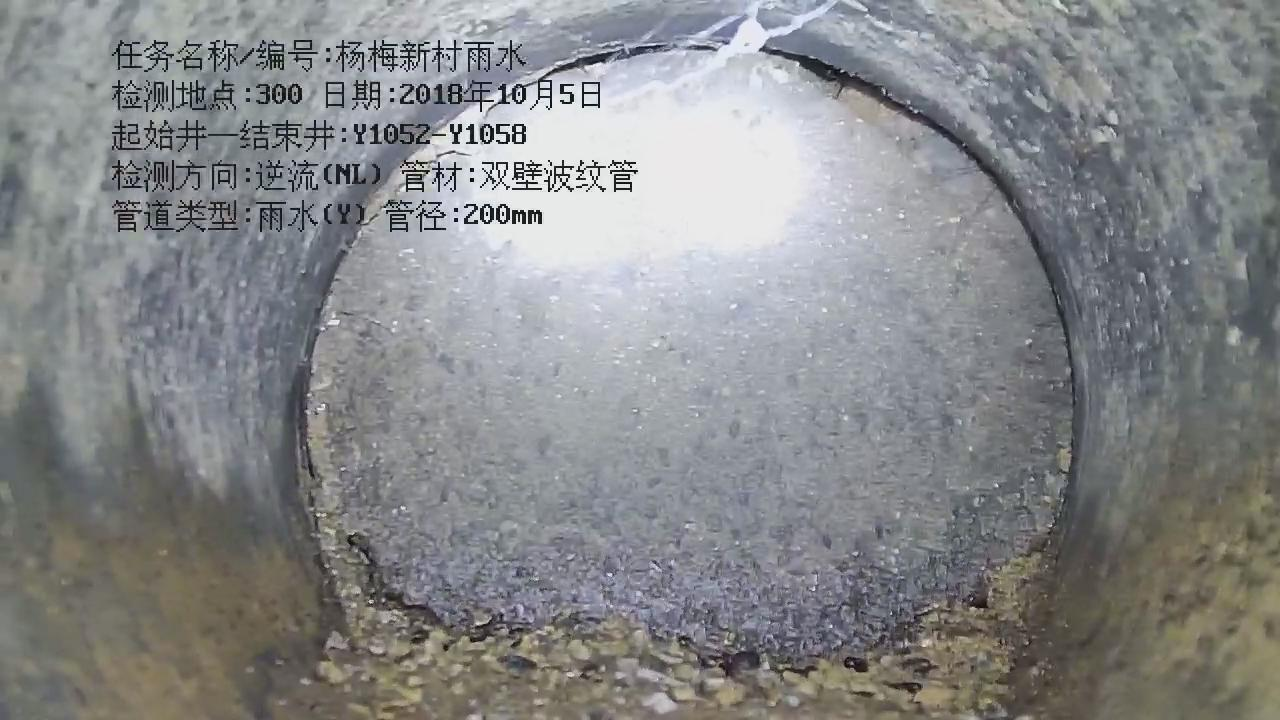CQBG: (303, 37, 1091, 693)
